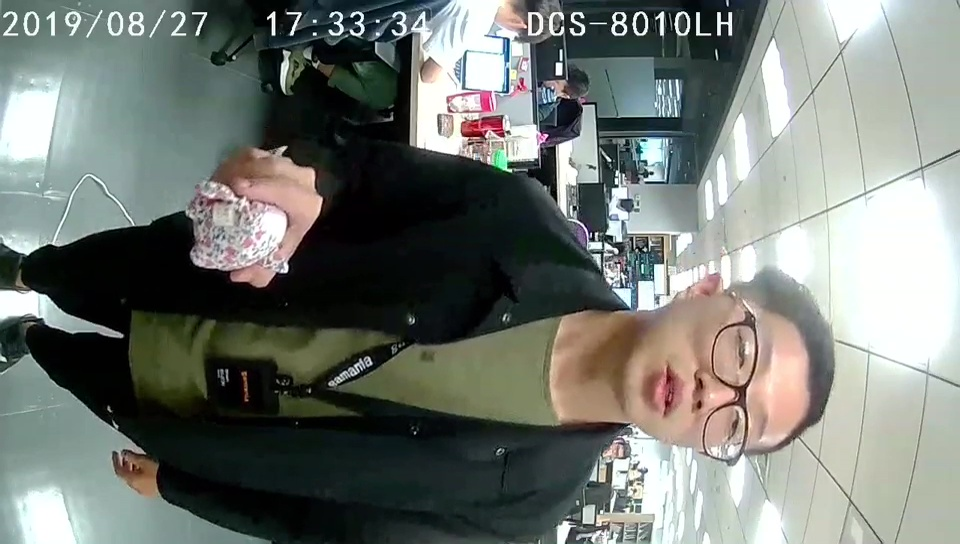pig: (187, 179, 290, 275)
